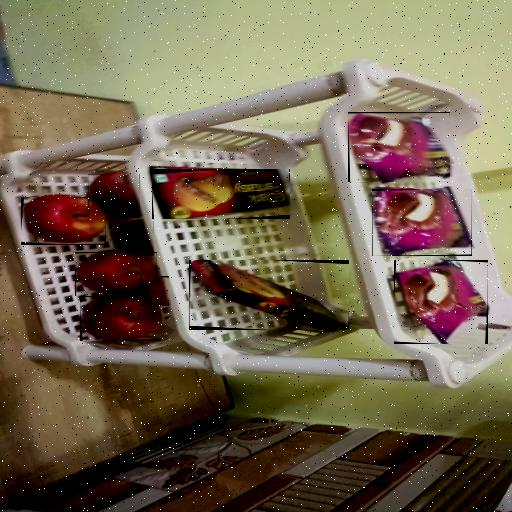Apple: (21, 197, 106, 245), (80, 295, 161, 341), (75, 252, 157, 296), (88, 174, 140, 218), (116, 219, 154, 255), (140, 276, 169, 306)
Choco Fills: (189, 260, 349, 330), (152, 169, 290, 219)
Choco Pie: (394, 260, 488, 344), (348, 112, 450, 182), (372, 189, 472, 256)
